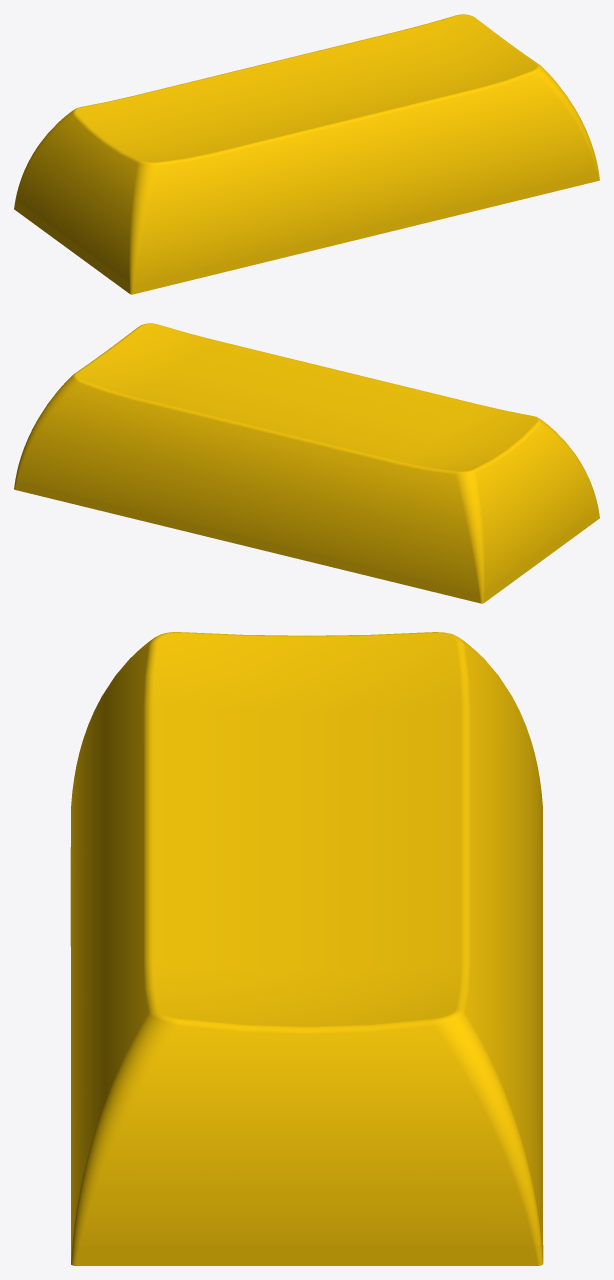
3 views of the same model, one above another, from view 1: azimuth 30°, elevation 25°; view 2: azimuth 150°, elevation 25°; view 3: azimuth 270°, elevation 25° (orthographic). The views are drawn at different scales.
Parts seen in each view (by area): view 1: Body36; view 2: Body36; view 3: Body36.
Part boxes in pixels (x1,y1,x2,y2): Body36: (14,14,599,294); Body36: (14,323,599,603); Body36: (70,632,543,1265).
Bounding box in the file's own units: 42.06 × 9.05 × 18.31.
